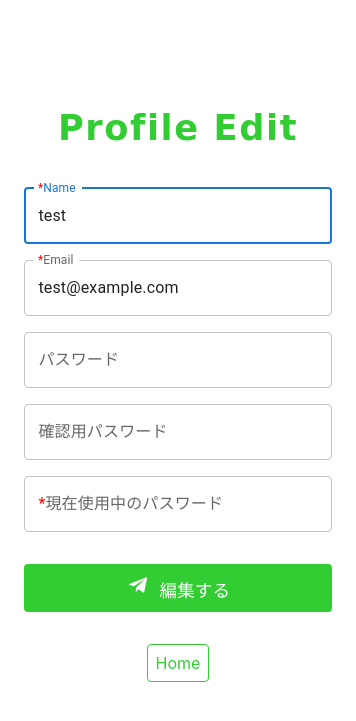
Test: UserEditコンポーネント › Form欄 › Form入力欄 › Apiエラーメッセージ
This screenshot has width=356, height=721.
初期値の入ってない項目に有効な値を入力
Type "testPassword" into the password field with test id "passwordArea".
click(178, 360); type("testPassword")  # box left=24, top=332, right=332, bottom=388
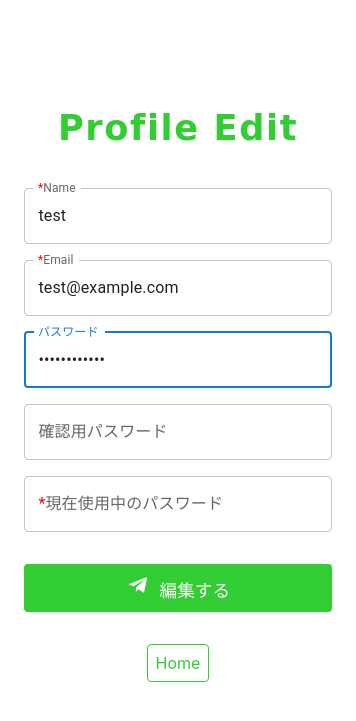
Type "testPassword" into the password field with test id "password_confirmationArea".
click(178, 432); type("testPassword")  # box left=24, top=404, right=332, bottom=460
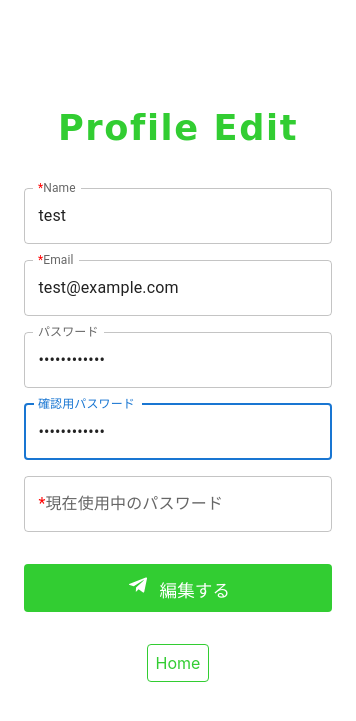
Type "testPassword" into the password field with test id "current_passwordArea".
click(178, 504); type("testPassword")  # box left=24, top=476, right=332, bottom=532
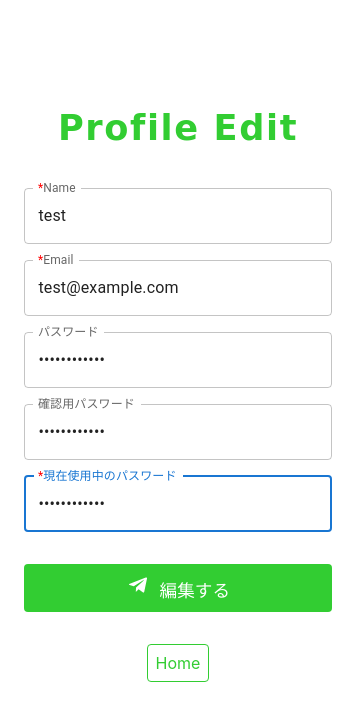
ユーザが送信ボタンをクリック
Click the button with test id "formSubmit".
click(178, 588)  # box left=24, top=564, right=332, bottom=612
(page scrolled)
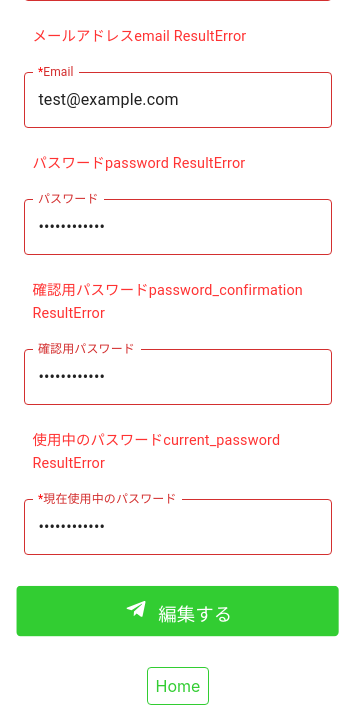
Now the text with test id "emailResultError" is shown, box left=32, top=28, right=246, bottom=45
Now the text with test id "passwordResultError" is shown, box left=32, top=155, right=245, bottom=172
Now the text with test id "password_confirmationResultError" is shown, box left=24, top=271, right=332, bottom=333
